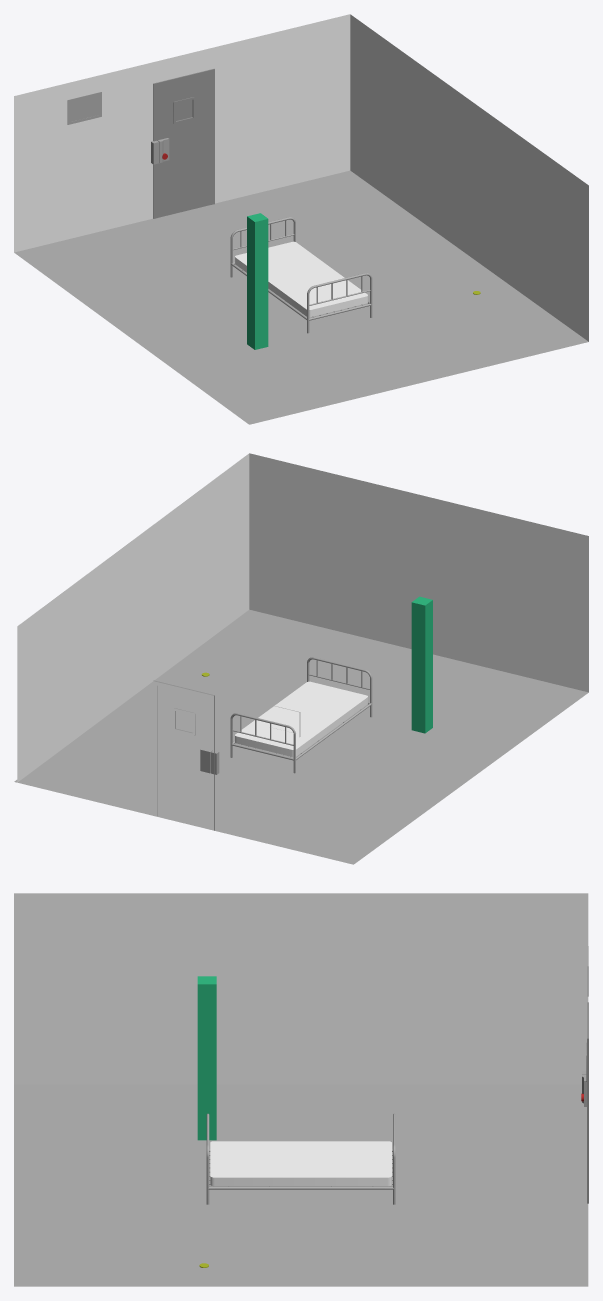
Rendered from NSP_Quarantine_room.glb.
The picture shows the model from 3 angles, top to bottom: view 1: azimuth 30°, elevation 25°; view 2: azimuth 150°, elevation 25°; view 3: azimuth 270°, elevation 25°; orthographic projection. The views are drawn at different scales.
Visible parts, largest first — view 1: wall, floor, door, bed_top, human, bed_frame, window; view 2: wall, floor, bed_top, human, bed_frame; view 3: wall, floor, bed_top, human, bed_frame.
Part boxes in pixels (x1,y1,x2,y2): wall: (14, 14, 588, 341); floor: (14, 170, 588, 424); door: (153, 68, 214, 218); bed_top: (235, 241, 367, 317); human: (247, 213, 268, 349); bed_frame: (230, 217, 372, 333); window: (67, 92, 101, 124); wall: (17, 453, 588, 782); floor: (14, 609, 588, 864); bed_top: (235, 681, 367, 757); human: (411, 596, 432, 733); bed_frame: (230, 657, 372, 773); wall: (14, 893, 588, 1084); floor: (14, 1084, 588, 1286); bed_top: (210, 1141, 391, 1186); human: (197, 976, 216, 1140); bed_frame: (206, 1113, 395, 1204).
Bounding box in the file's own units: 5 × 2.2 × 6.01.
